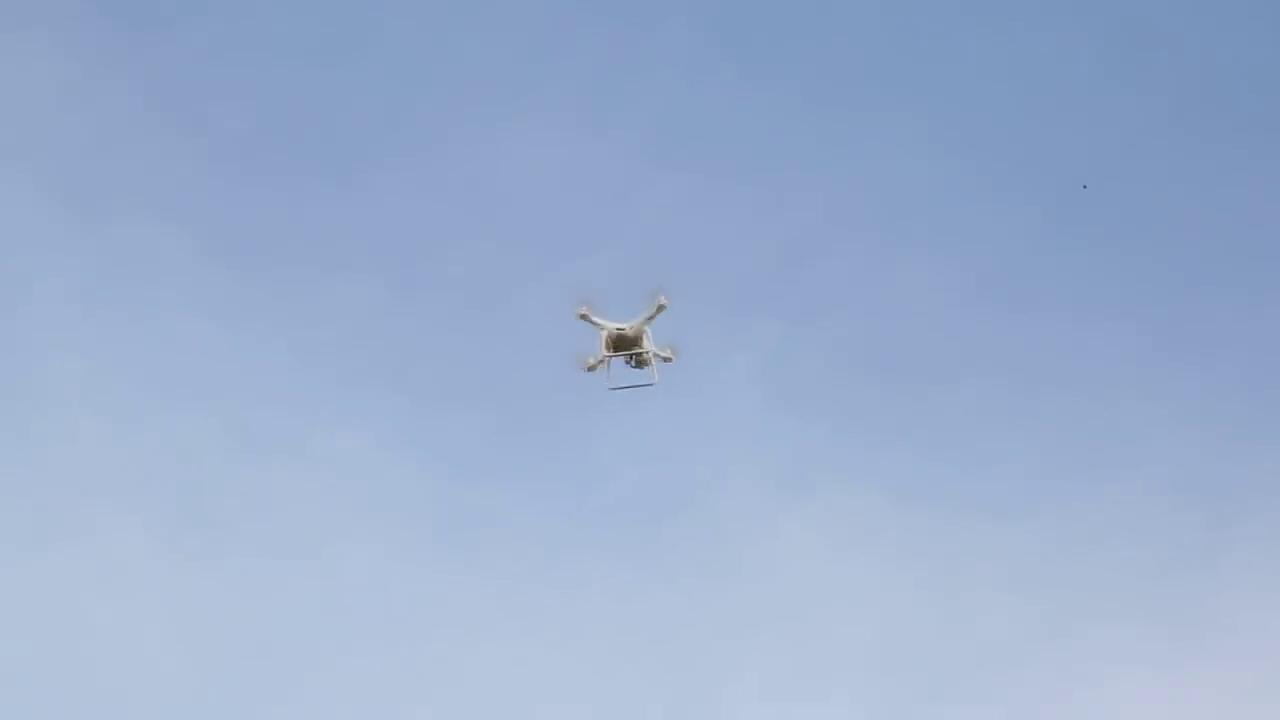drone: (527, 262, 735, 418)
